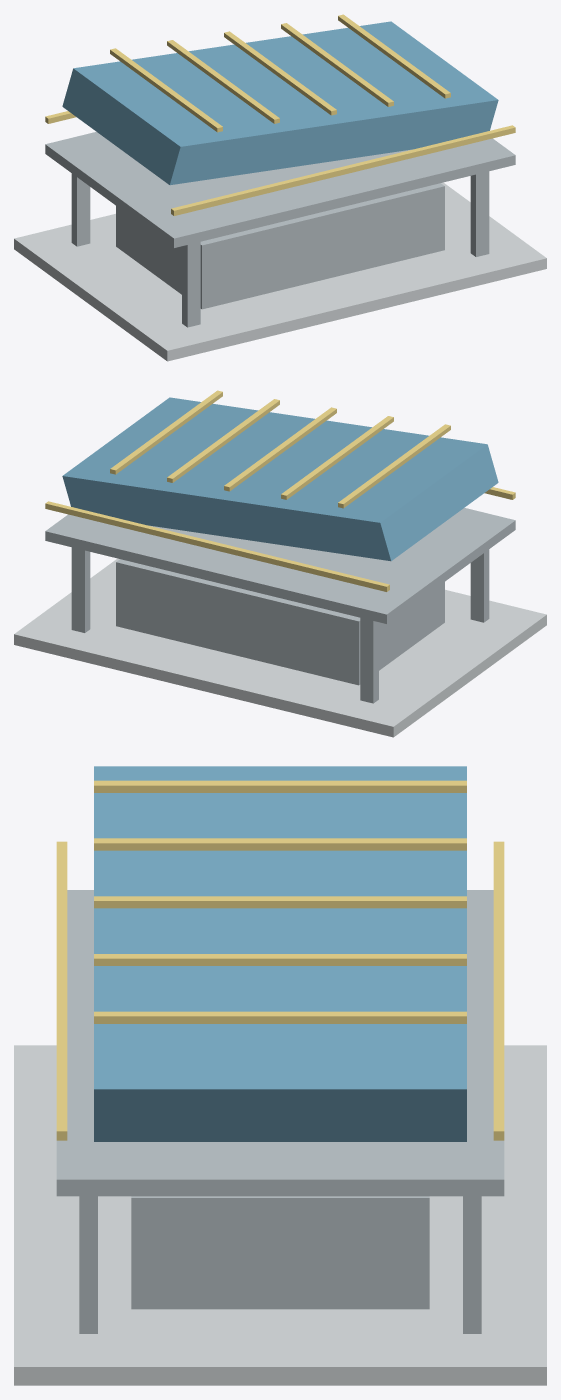
Rendered from screen.glb.
The picture shows the model from 3 angles, top to bottom: view 1: azimuth 30°, elevation 25°; view 2: azimuth 150°, elevation 25°; view 3: azimuth 270°, elevation 25°; orthographic projection. The views are drawn at different scales.
Parts seen in each view (by area): view 1: screen; view 2: screen; view 3: screen.
Part boxes in pixels (left/top/right/bottom): screen: left=14, top=14, right=546, bottom=361; screen: left=14, top=390, right=546, bottom=737; screen: left=14, top=766, right=546, bottom=1385.
Bounding box in the file's own units: 10 × 5 × 7.
